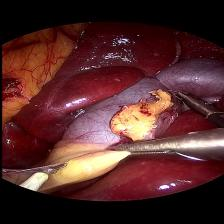Grasper: (104, 132, 214, 162), (166, 92, 216, 118)
Hook: (13, 162, 69, 194)
